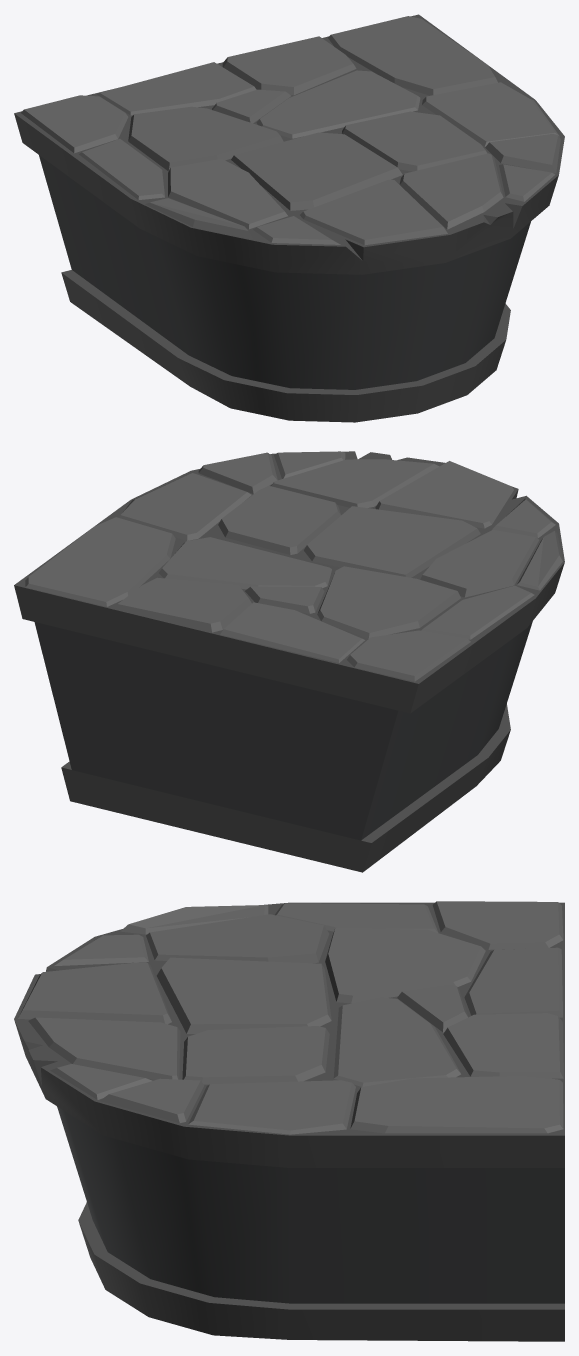
File: platform_004.glb
3 renders of one model, top to bottom at view 1: azimuth 30°, elevation 25°; view 2: azimuth 150°, elevation 25°; view 3: azimuth 270°, elevation 25°, orthographic. The views are drawn at different scales.
Visible parts, largest first — view 1: platform_004; view 2: platform_004; view 3: platform_004.
Part boxes in pixels (bbox=[...]): platform_004: bbox=[14, 14, 564, 422]; platform_004: bbox=[14, 451, 564, 872]; platform_004: bbox=[14, 901, 564, 1341].
Bounding box in the file's own units: 5 × 2.48 × 5.
1 material, 1 textured.
